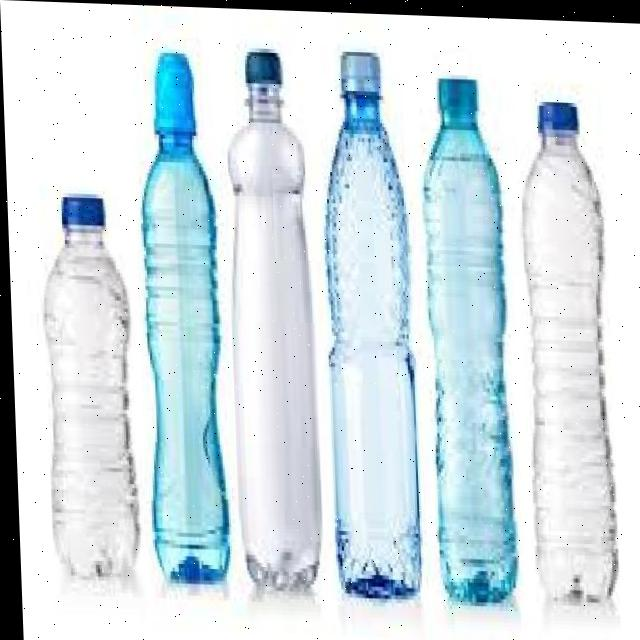bottle: (514, 79, 637, 633), (216, 46, 323, 610), (37, 168, 149, 585)
